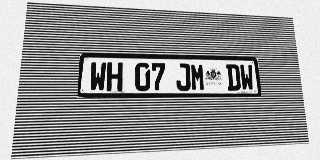0: (135, 63, 150, 91)
7: (151, 63, 166, 91)
D: (226, 64, 241, 91)
H: (106, 62, 123, 91)
J: (176, 63, 191, 91)
M: (190, 63, 205, 91)
W: (89, 62, 107, 91), (239, 64, 254, 91)
